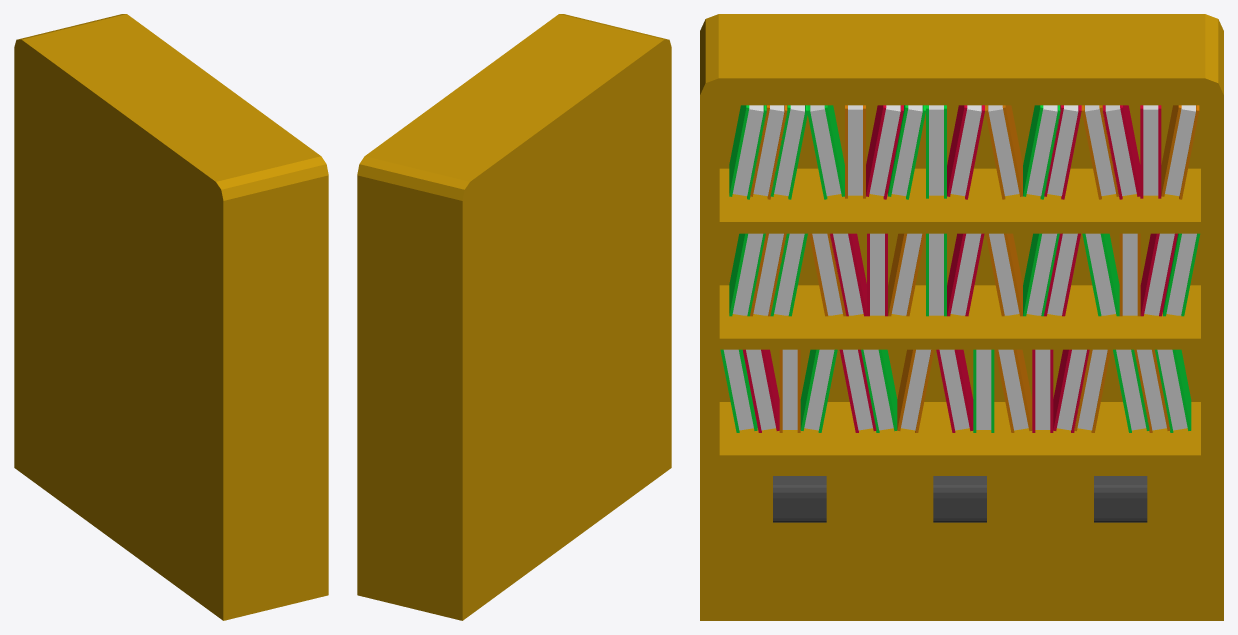
The model's file is bookcase.fbx.
3 views of the same model, side by side, from view 1: azimuth 30°, elevation 25°; view 2: azimuth 150°, elevation 25°; view 3: azimuth 270°, elevation 25° (orthographic). The views are drawn at different scales.
Parts seen in each view (by area): view 1: bookcase; view 2: bookcase; view 3: bookcase, Cube.041, Cube.043, Cube.039, Cube.035, Cube.038, Cube.033, Cube.037, Cube.047, Cube.017, Cube.019, Cube.025 (+37 smaller).
Part boxes in pixels (<box>): bookcase: <box>14,14,328,620</box>; bookcase: <box>357,14,671,620</box>; bookcase: <box>700,14,1223,620</box>; Cube.041: <box>1161,105,1199,199</box>; Cube.043: <box>1103,105,1140,199</box>; Cube.039: <box>947,105,984,199</box>; Cube.035: <box>807,105,844,199</box>; Cube.038: <box>985,105,1022,199</box>; Cube.033: <box>866,105,903,199</box>; Cube.037: <box>1023,105,1060,199</box>; Cube.047: <box>729,105,766,199</box>; Cube.017: <box>1140,233,1177,316</box>; Cube.019: <box>1082,233,1119,316</box>; Cube.025: <box>888,233,925,316</box>.
Size of the model in its own units: 120 by 400 by 350.
